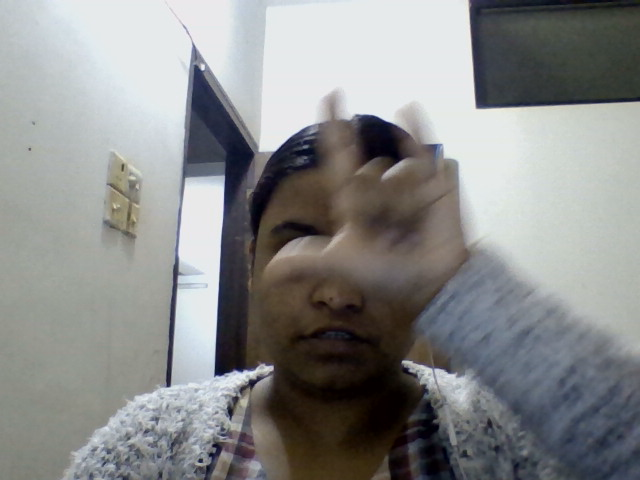I Love You: (281, 67, 537, 387)
